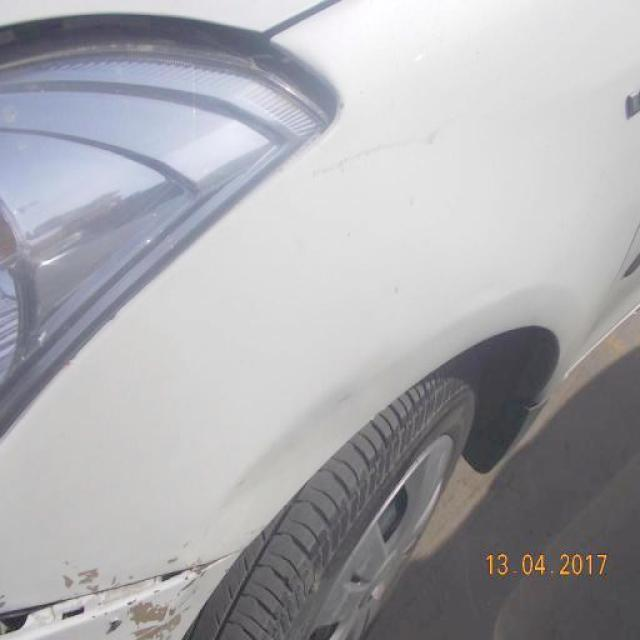car damage: (2, 565, 220, 639), (311, 123, 447, 192), (126, 592, 192, 640), (58, 562, 104, 598), (165, 555, 215, 584)
